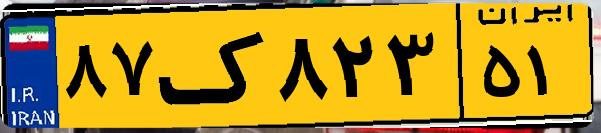1: (525, 38, 570, 115)
2: (330, 28, 385, 110)
3: (385, 28, 445, 110)
5: (475, 38, 525, 113)
7: (110, 28, 158, 98)
8: (270, 28, 330, 110), (57, 26, 110, 100)
ک: (158, 12, 270, 120)
